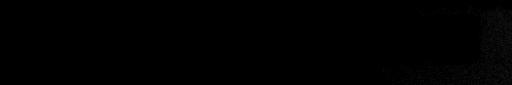letter: (32, 20, 66, 69), (190, 17, 222, 66), (86, 19, 118, 68), (268, 16, 298, 65), (137, 18, 167, 67), (164, 18, 194, 67), (452, 13, 480, 62), (294, 16, 322, 65), (245, 15, 271, 66), (372, 16, 400, 63), (216, 18, 244, 65), (114, 19, 142, 66), (400, 14, 426, 63), (426, 14, 452, 63), (322, 16, 348, 63), (348, 16, 374, 63), (62, 20, 84, 69)
